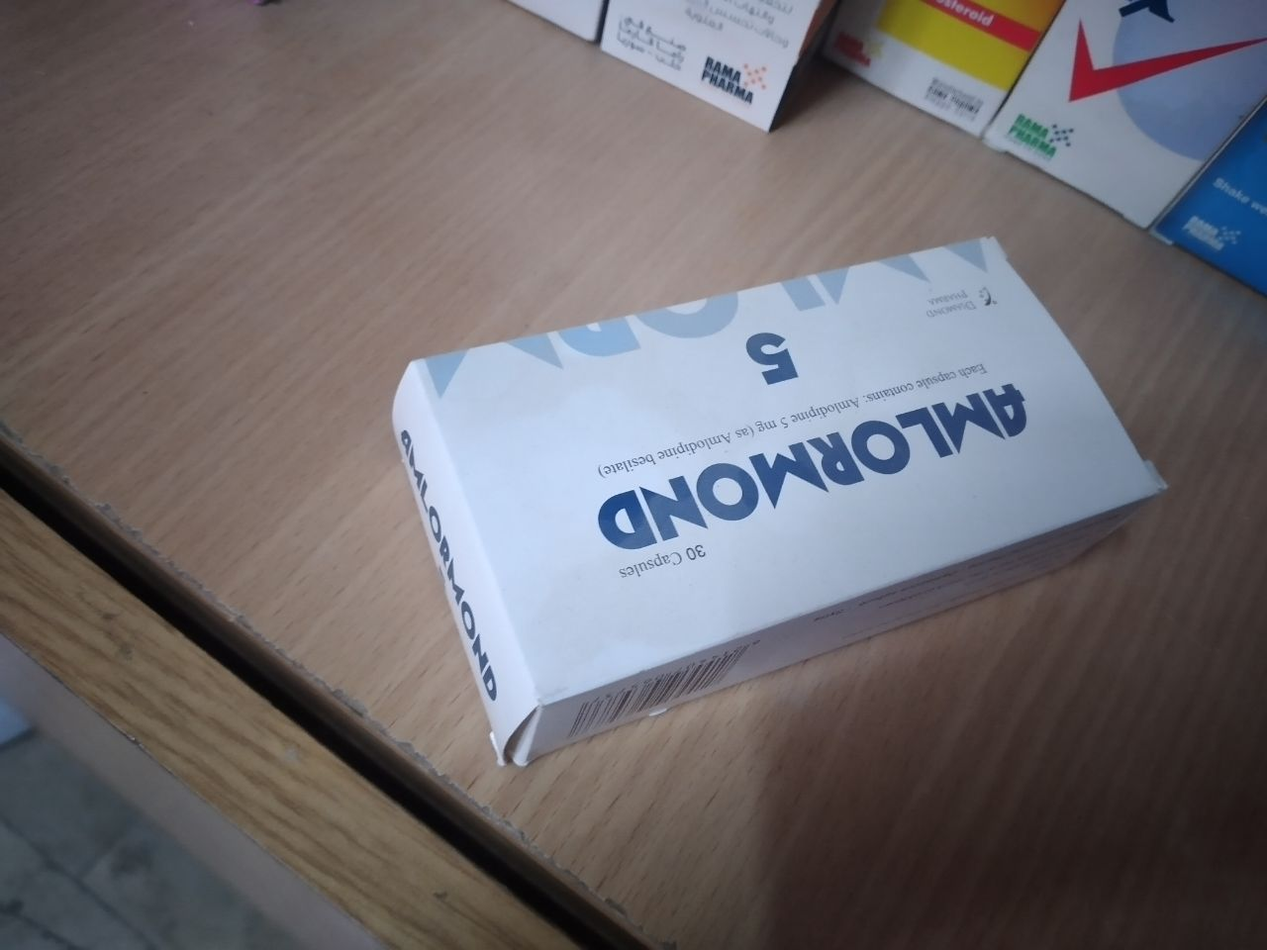Medicine: (398, 210, 1163, 782)
